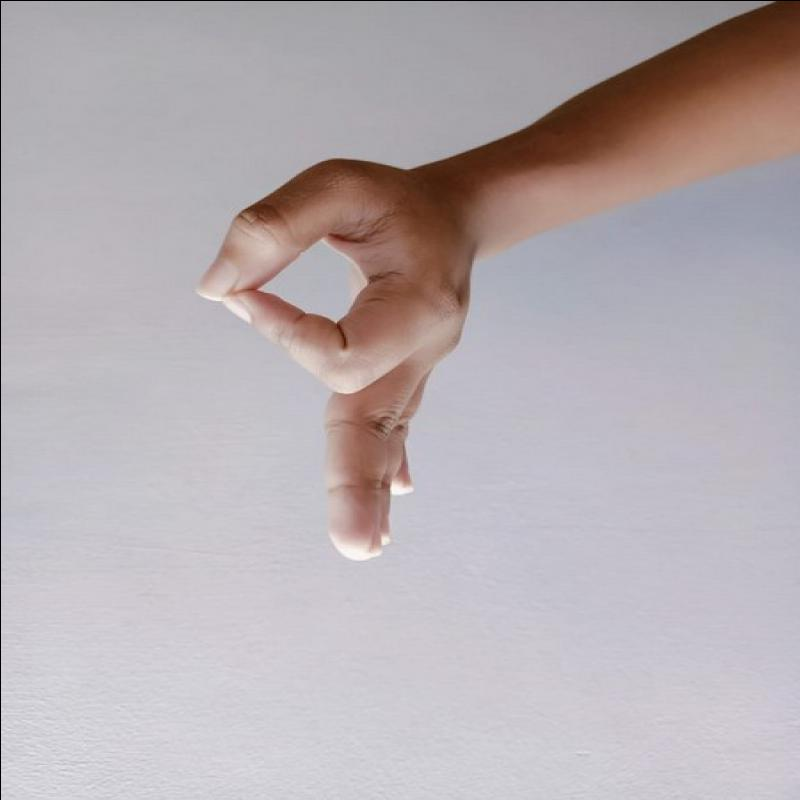Mudraakhyam: (187, 140, 485, 583)
